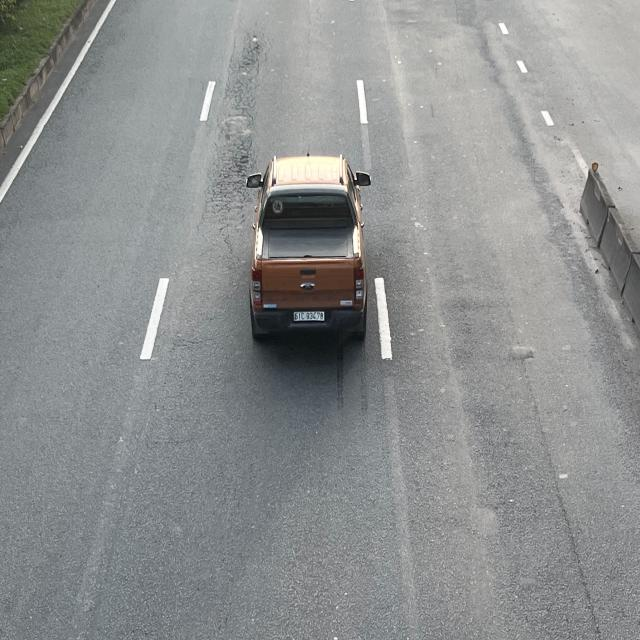car: (248, 156, 370, 344)
